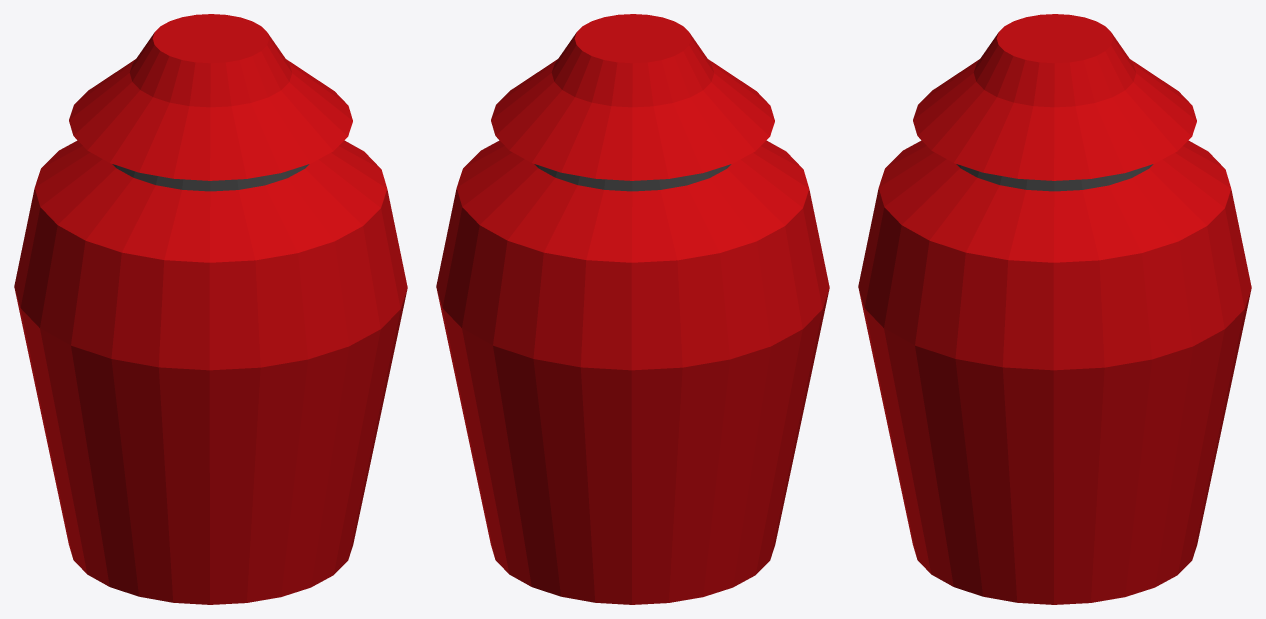
File: Cupcake.obj
3 renders of one model, left to right at view 1: azimuth 30°, elevation 25°; view 2: azimuth 150°, elevation 25°; view 3: azimuth 270°, elevation 25°, orthographic.
Parts seen in each view (by area): view 1: Urna; view 2: Urna; view 3: Urna.
Boxes of the visible parts, left/top/right/bottom form: Urna: left=14, top=14, right=407, bottom=604; Urna: left=436, top=14, right=829, bottom=604; Urna: left=858, top=14, right=1251, bottom=604.
Bounding box in the file's own units: 0.9523 × 1.35 × 0.9523.
